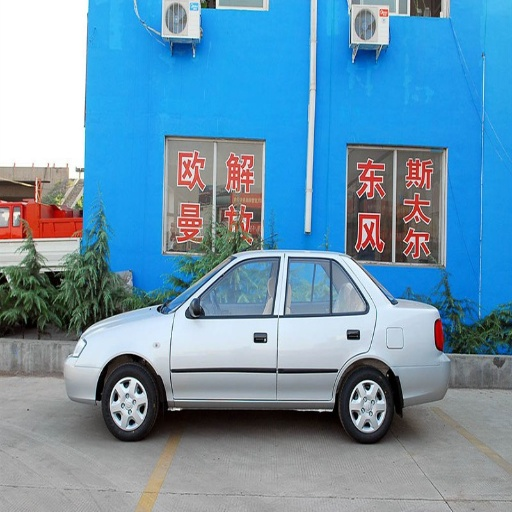back_left_door: (277, 255, 375, 403)
